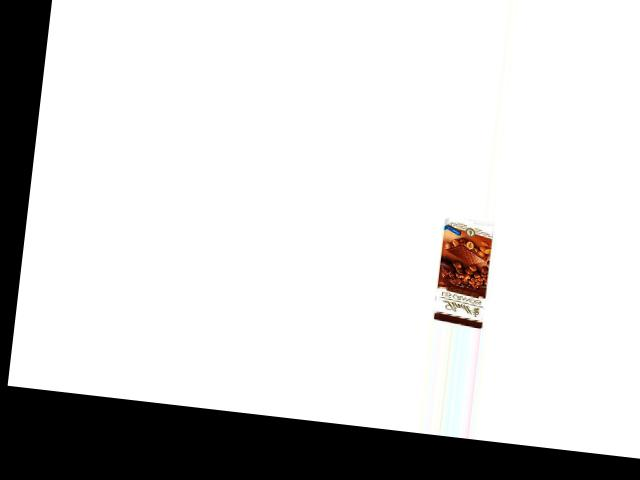chocolate: (430, 222, 501, 326)
